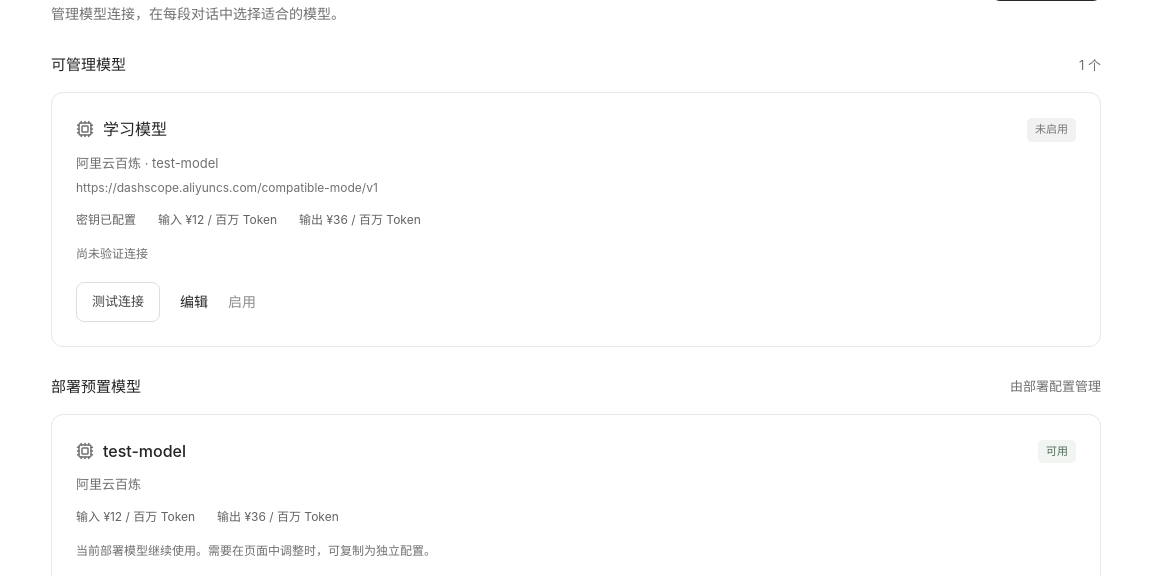
Test: keeps edits on a failed save, reuses the request key, and omits an unchanged key
Click the button "编辑" at (194, 302), box [180,286,208,317]
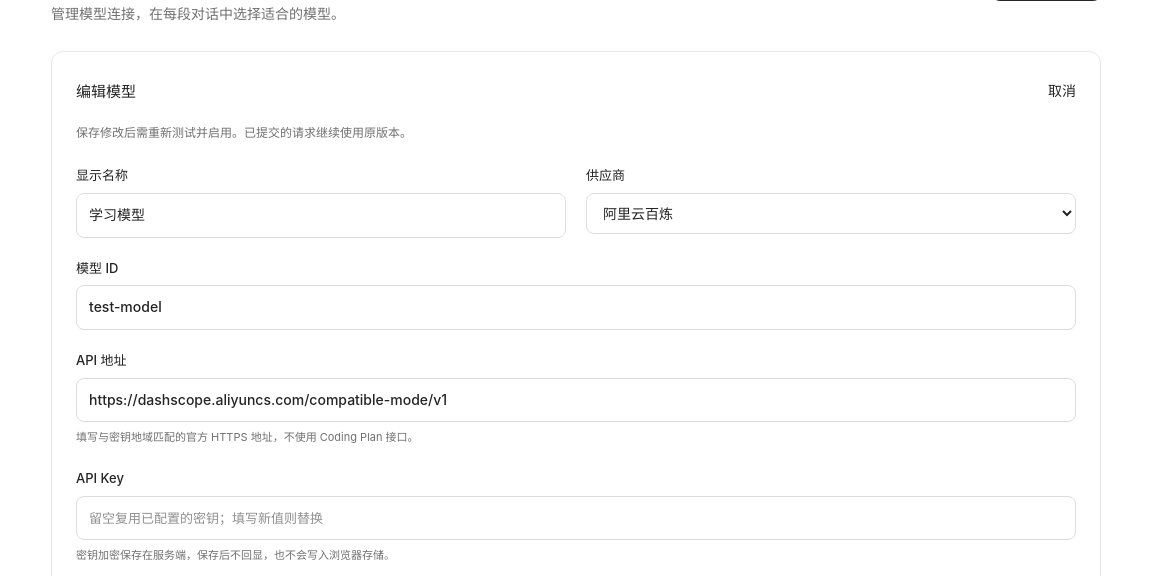
Replace the text in the field labelled "显示名称" with "修改后的名称" at (321, 215), box [76,193,566,238]
(page scrolled)
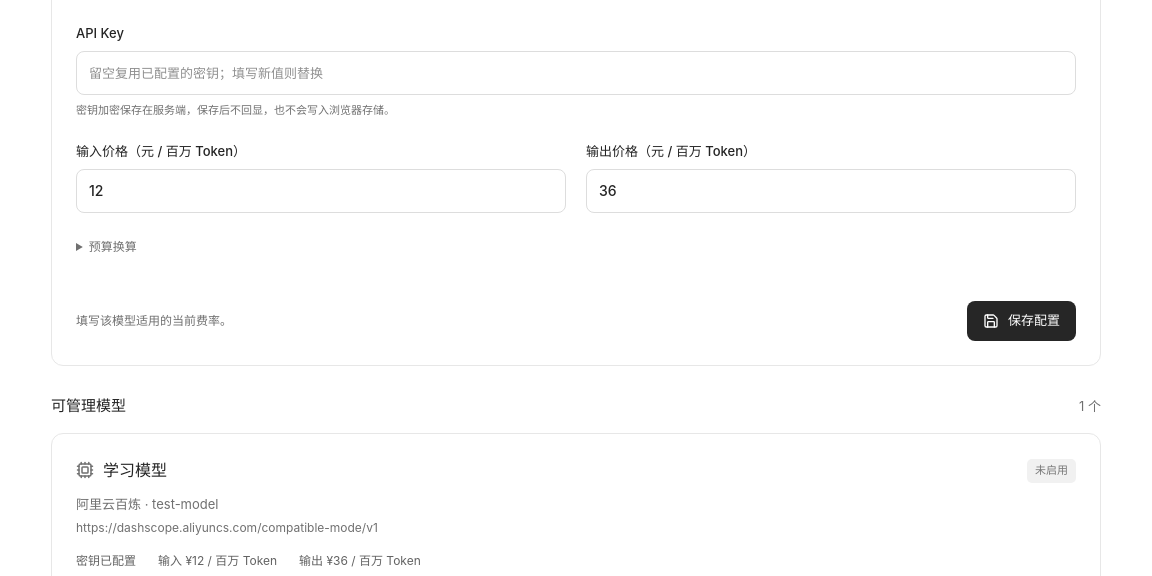
Check: the password field labelled "API Key" is empty, box [76,50,1076,95]
Click the button "保存配置" at (1022, 321), box [967,301,1076,341]
(page scrolled)
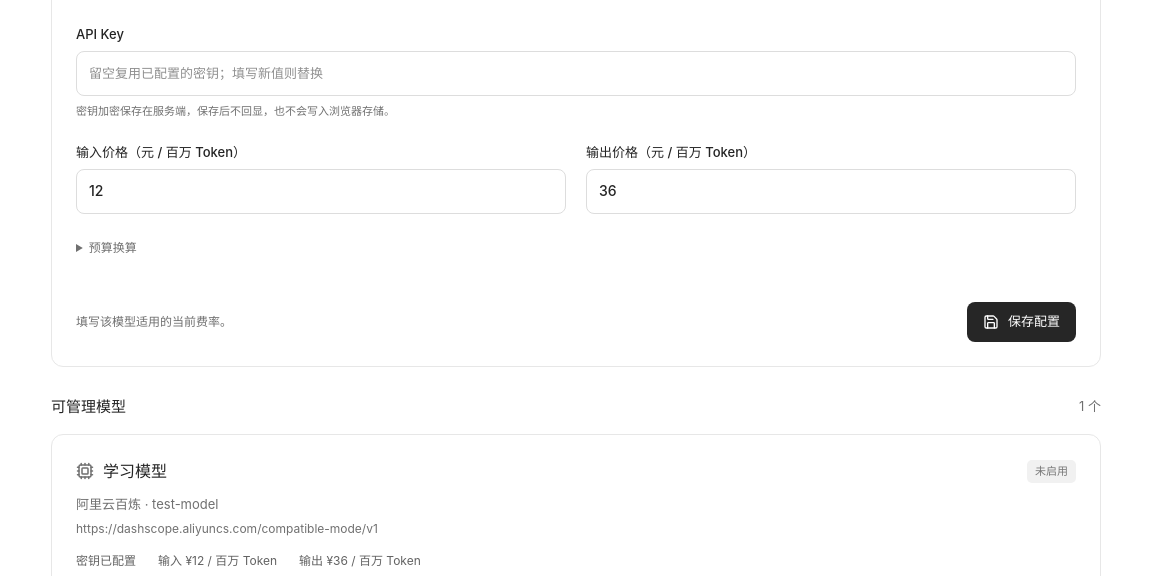
Click the button "保存配置" at (1022, 322), box [967,302,1076,342]
(page scrolled)
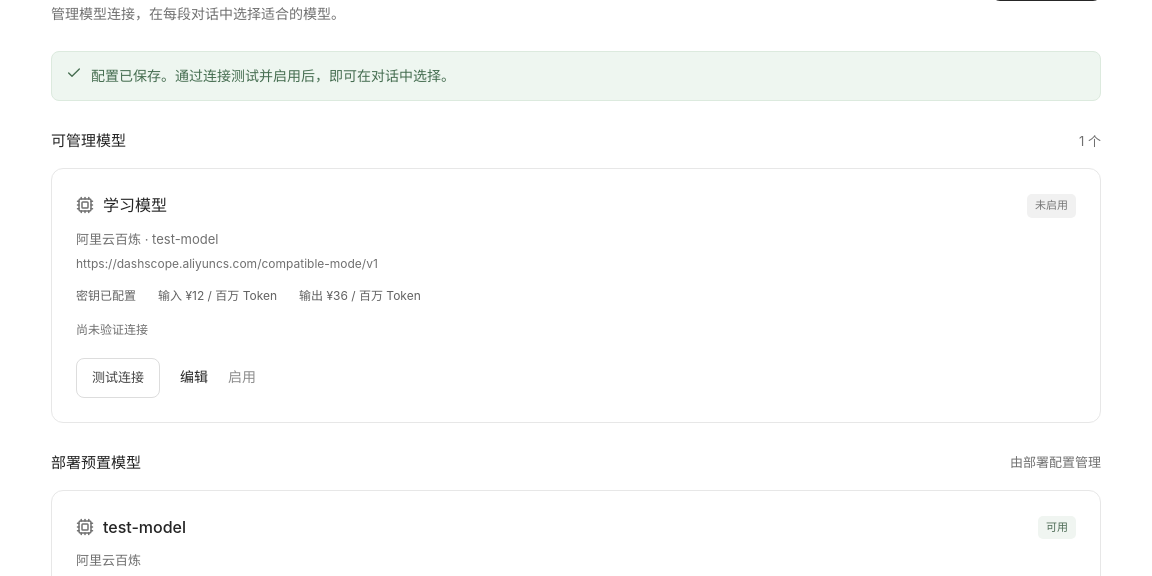
Check: the button "保存配置" is gone
